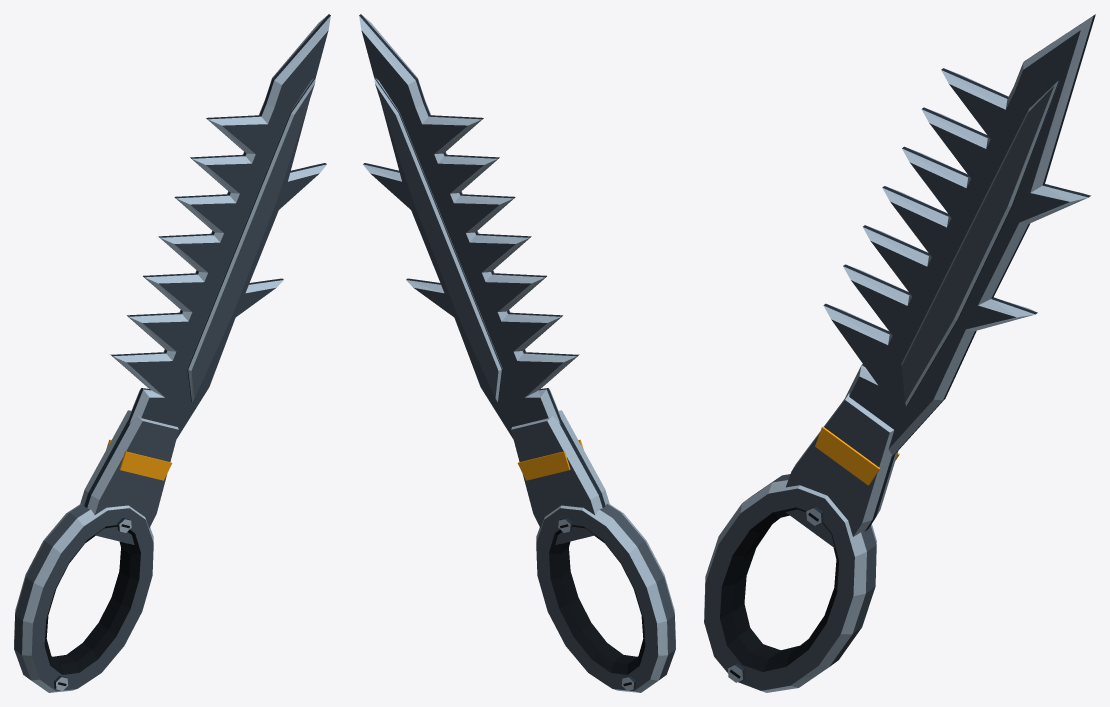
Rendered from PinkingShears_Evolved_HalfB.obj.
3 renders of one model, left to right at view 1: azimuth 30°, elevation 25°; view 2: azimuth 150°, elevation 25°; view 3: azimuth 330°, elevation 25°, orthographic. The views are drawn at different scales.
Parts seen in each view (by area): view 1: SteelFrame, BladeFace, GroundSteel, Rubber, DarkSteel, WarmGrip; view 2: SteelFrame, BladeFace, GroundSteel, Rubber, DarkSteel, WarmGrip; view 3: BladeFace, SteelFrame, GroundSteel, Rubber, DarkSteel, WarmGrip.
Part boxes in pixels (<box>): SteelFrame: <box>14,84,314,691</box>; BladeFace: <box>127,30,328,438</box>; GroundSteel: <box>14,14,330,692</box>; Rubber: <box>44,524,140,686</box>; DarkSteel: <box>54,14,330,688</box>; WarmGrip: <box>106,439,172,480</box>; SteelFrame: <box>375,84,675,691</box>; BladeFace: <box>361,30,562,438</box>; GroundSteel: <box>359,14,675,692</box>; Rubber: <box>549,524,645,686</box>; DarkSteel: <box>359,14,635,688</box>; WarmGrip: <box>517,439,583,480</box>; BladeFace: <box>831,30,1080,448</box>; SteelFrame: <box>704,86,1053,690</box>; GroundSteel: <box>704,16,1093,692</box>; Rubber: <box>720,507,838,678</box>; DarkSteel: <box>729,14,1095,679</box>; WarmGrip: <box>815,426,899,485</box>.
Size of the model in its own units: 0.5482 by 1.02 by 0.0711.
